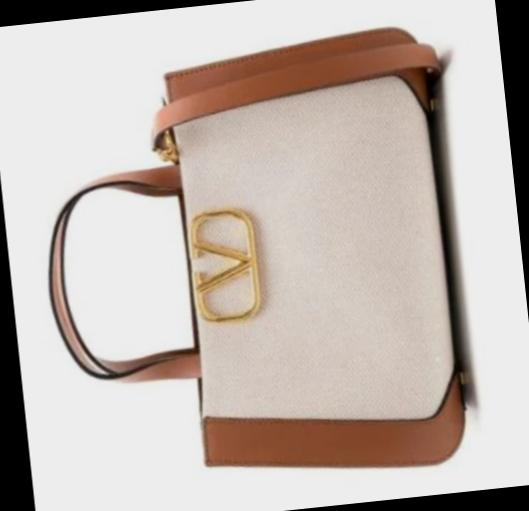VALENTINO: (186, 205, 262, 324)
